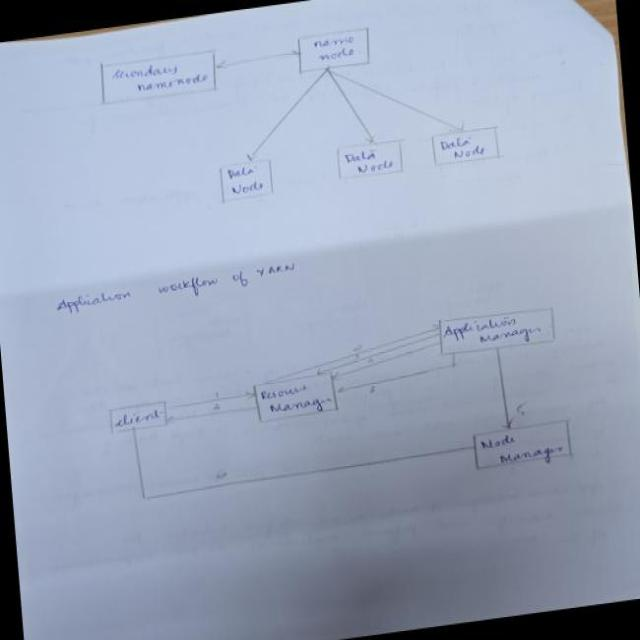Figure Detection - v3 Dataset Version2: (73, 288, 596, 538), (83, 0, 519, 227)
